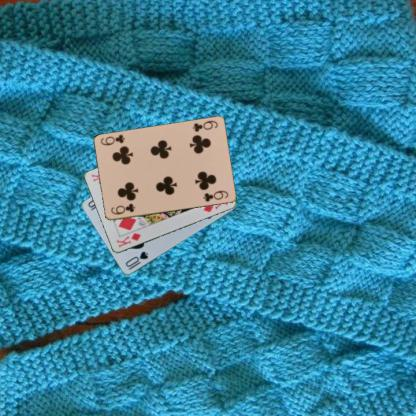10s: (123, 249, 150, 271)
6c: (190, 118, 218, 134), (108, 201, 136, 216)
Kd: (114, 230, 142, 249)
